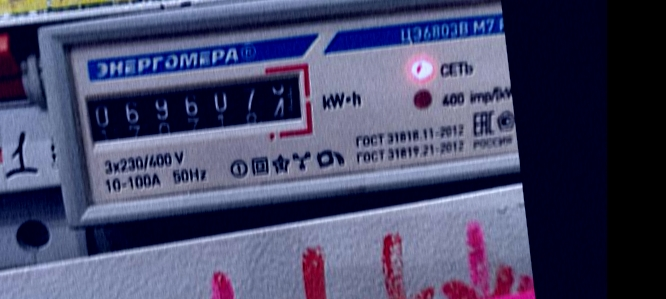0: (90, 103, 110, 129), (209, 87, 227, 114)
4: (267, 96, 286, 121)
6: (179, 92, 199, 117), (120, 99, 139, 125)
7: (239, 86, 257, 113)
9: (149, 96, 168, 122)
screen: (68, 57, 317, 159)
